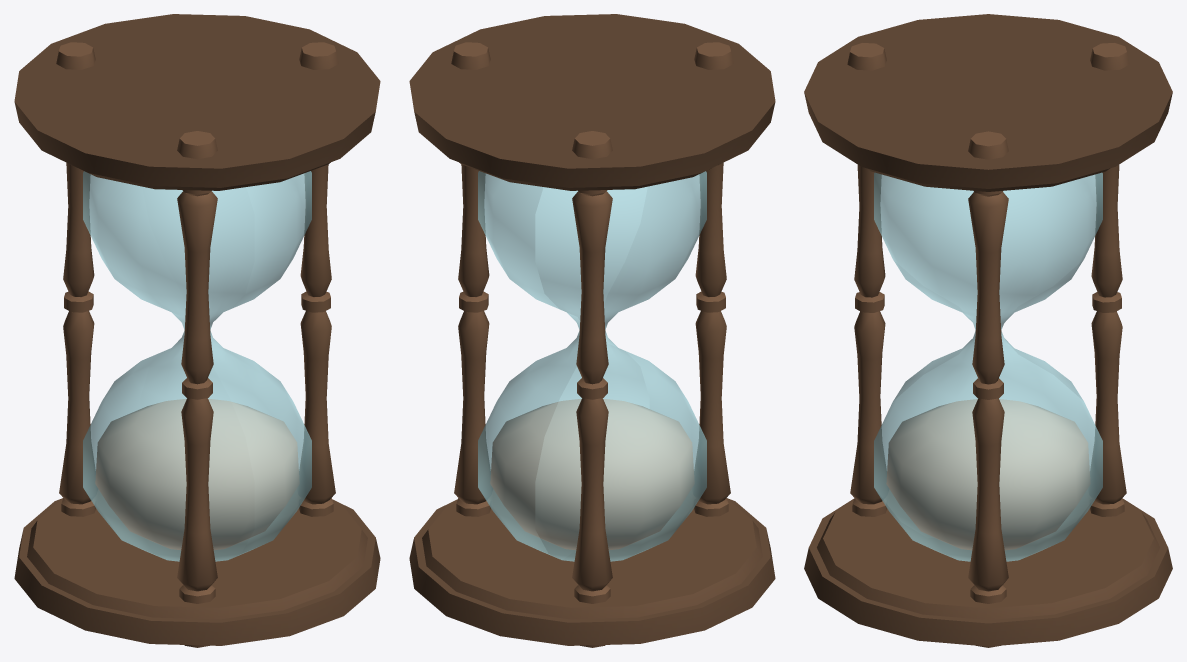
File: Hourglass.fbx
3 renders of one model, left to right at view 1: azimuth 30°, elevation 25°; view 2: azimuth 150°, elevation 25°; view 3: azimuth 270°, elevation 25°, orthographic.
Visible parts, largest first — view 1: Hourglass; view 2: Hourglass; view 3: Hourglass.
Part boxes in pixels (left/top/right/bottom): Hourglass: left=14, top=14, right=380, bottom=647; Hourglass: left=409, top=14, right=775, bottom=647; Hourglass: left=804, top=14, right=1172, bottom=647.
Size of the model in its own units: 15.27 by 22.92 by 15.27.
